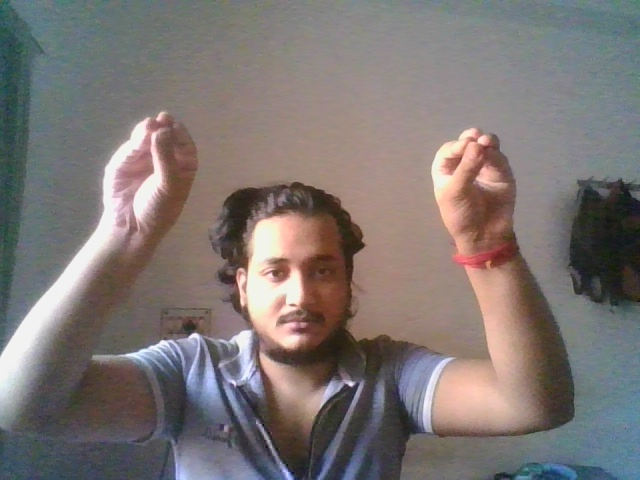Mouth: (102, 110, 198, 235), (429, 127, 517, 237)
